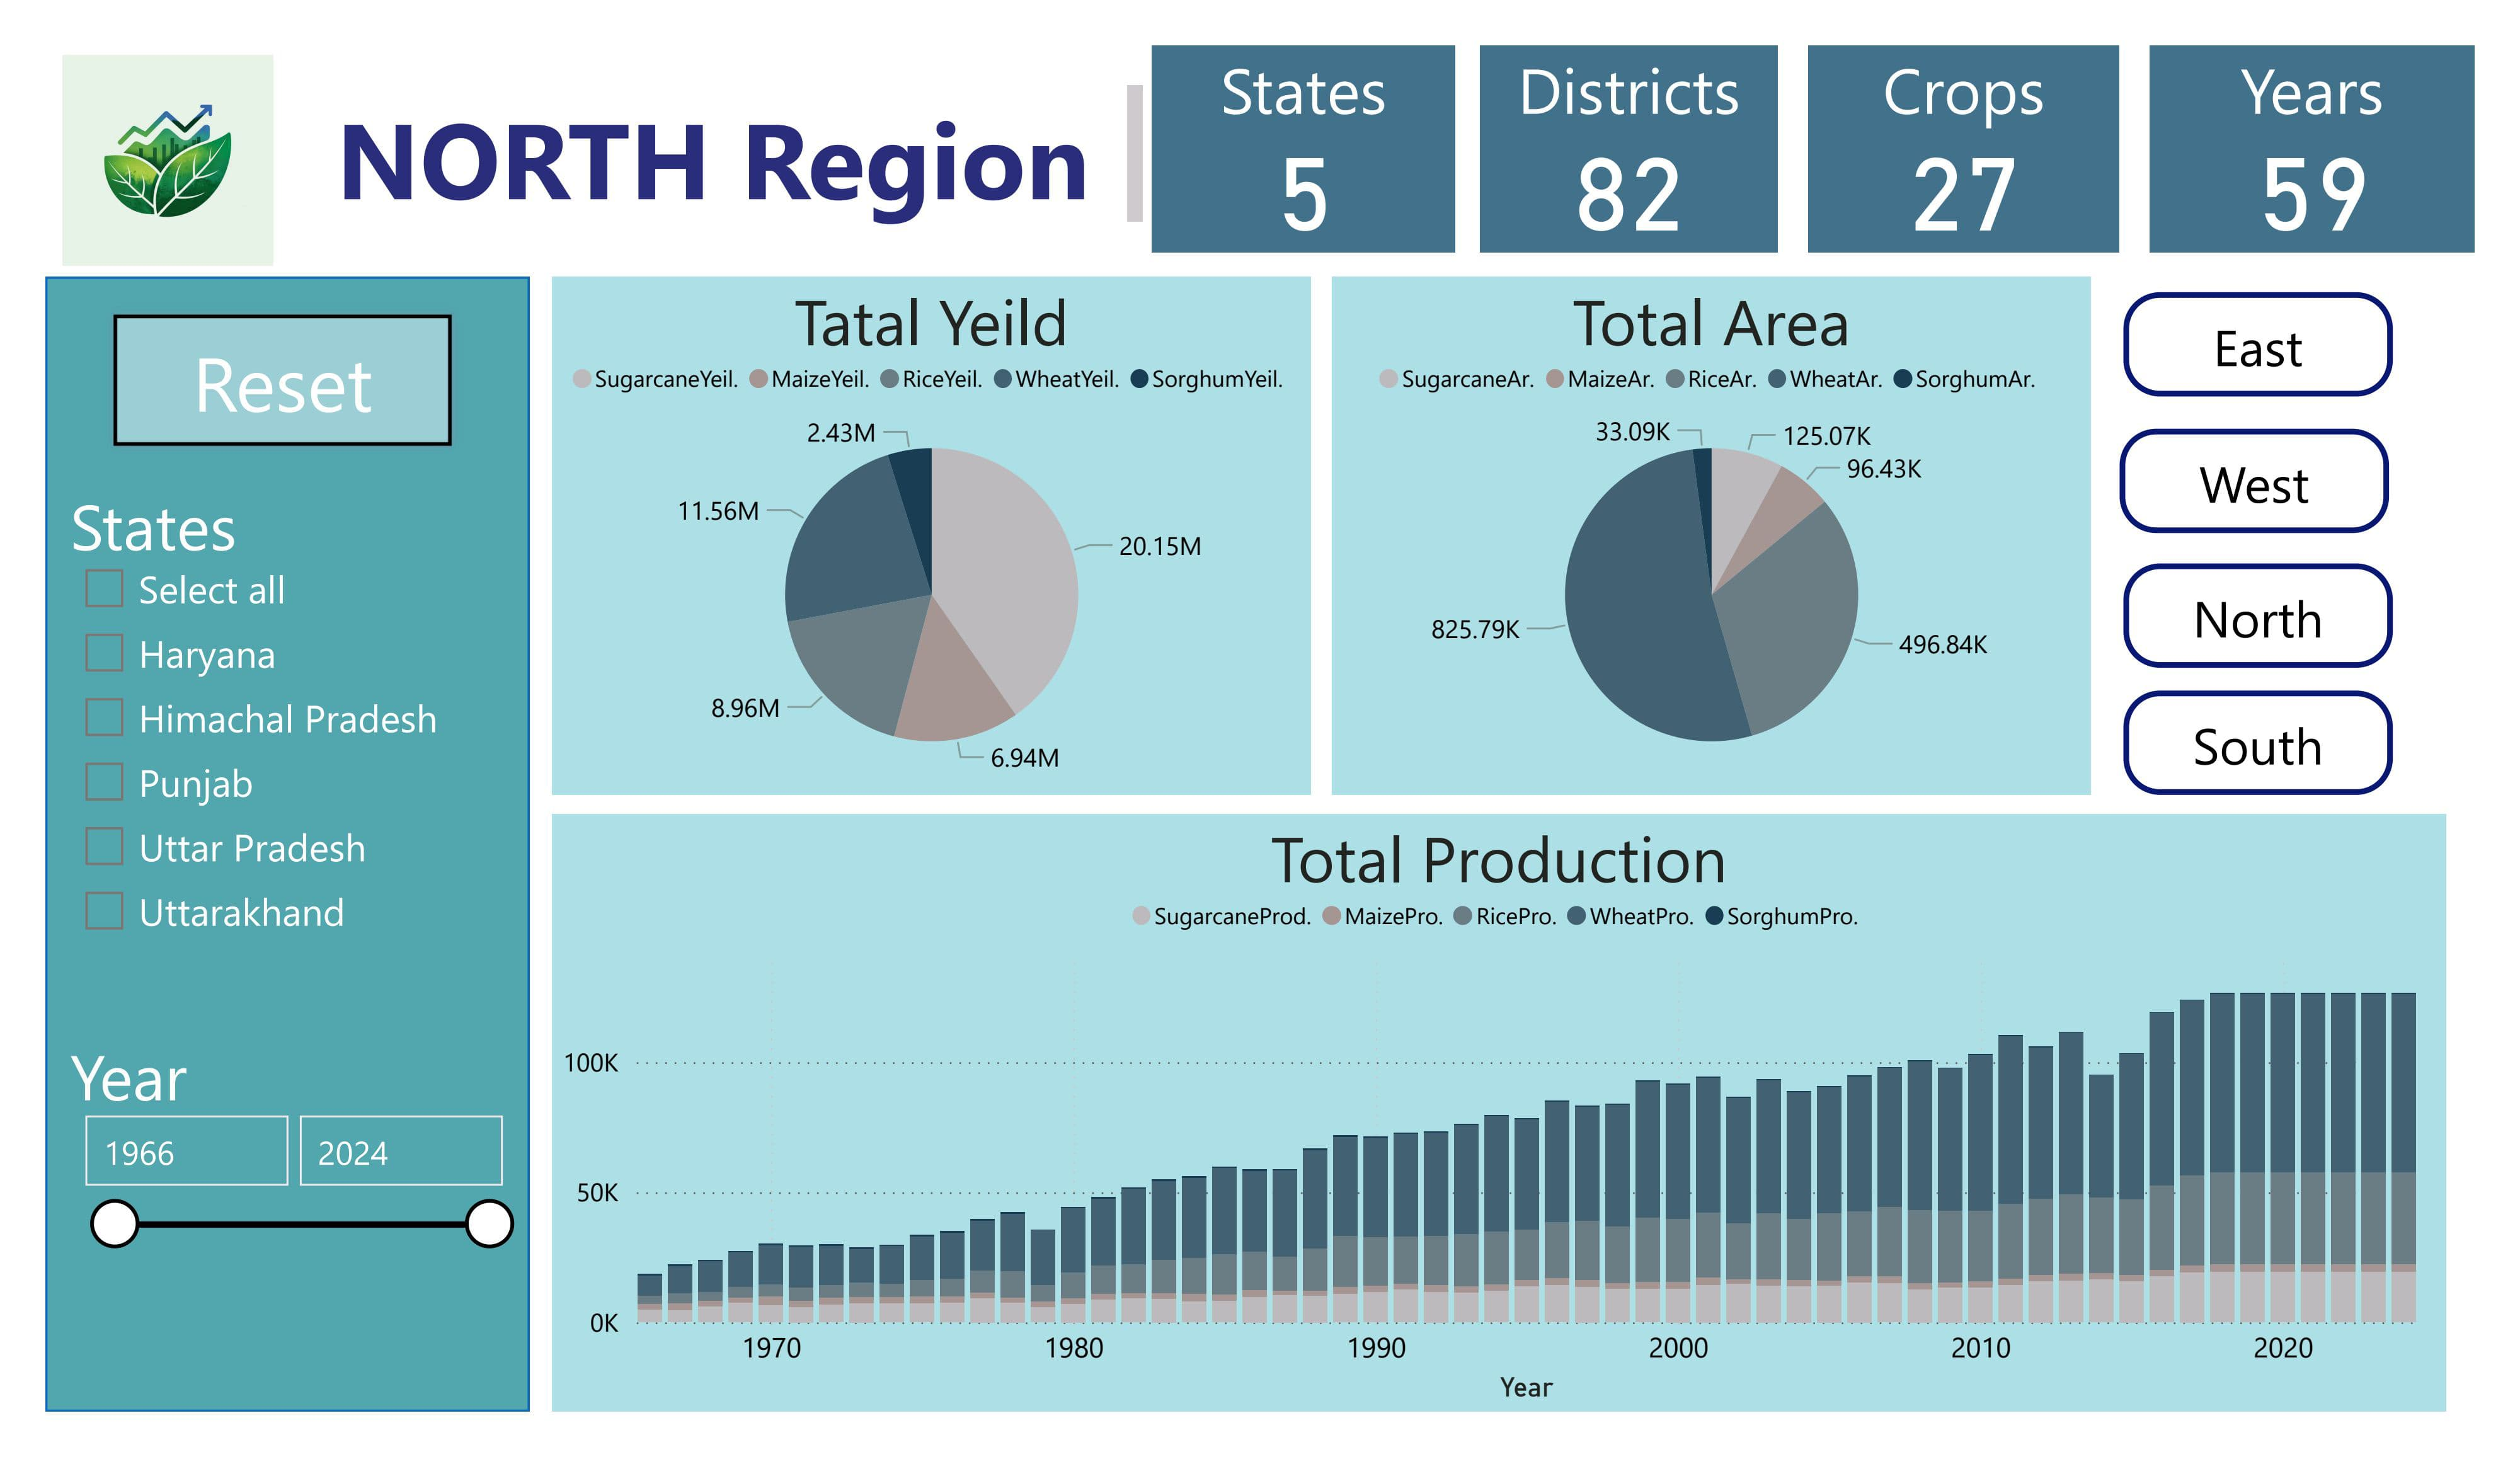

This screenshot's page, from the dashboard's own definition file:
{"tool":"powerbi","page":{"name":"NORTH","canvas":[1280,720],"ordinal":4},"visuals":[{"type":"shape","box":[0,121.7,255,598.3],"z":0},{"type":"textbox","box":[8.6,15.8,574.6,83.5],"z":1000},{"type":"card","title":"States","fields":{"Values":["Count(NORTH.State Name)"]},"box":[583.2,0,159.8,109.4],"z":2000},{"type":"card","title":"Districts","fields":{"Values":["Count(NORTH.Dist Name)"]},"box":[756,0,157,109.4],"z":3000},{"type":"card","title":"Crops","fields":{"Values":["Avg(NORTH.Crops)"]},"box":[928.8,0,164.2,109.4],"z":4000},{"type":"card","title":"Years","fields":{"Values":["Count(NORTH.Year)"]},"box":[1108.8,0,171.4,109.4],"z":5000},{"type":"slicer","title":"States","fields":{"Values":["NORTH.State Name"]},"box":[8.3,230,246.7,260],"z":6000},{"type":"slicer","title":"Year","fields":{"Values":["EAST.Year"]},"box":[8.3,520,246.7,143.3],"z":7000},{"type":"actionButton","box":[31.7,138.3,186.7,76.7],"z":8000},{"type":"pieChart","title":"Total Area","fields":{"Y":["NORTH.SugarcaneAr.","NORTH.MaizeAr.","NORTH.RiceAr.","NORTH.WheatAr.","NORTH.SorghumAr."]},"box":[678.3,121.7,400,273.3],"z":9000},{"type":"pieChart","title":"Tatal Yeild","fields":{"Y":["NORTH.SugarcaneYeil.","NORTH.MaizeYeil.","NORTH.RiceYeil.","NORTH.WheatYeil.","NORTH.SorghumYeil."]},"box":[266.7,121.7,400,273.3],"z":10000},{"type":"lineStackedColumnComboChart","title":"Total Production","fields":{"Y":["NORTH.SugarcaneProd.","NORTH.MaizePro.","NORTH.RicePro.","NORTH.WheatPro.","NORTH.SorghumPro."],"Category":["NORTH.Year"]},"box":[266.7,405,998.3,315],"z":11000},{"type":"actionButton","title":"West","box":[1093.3,201.7,141.7,55],"z":12000},{"type":"actionButton","box":[1095,273.3,141.7,55],"z":13000},{"type":"actionButton","box":[1095,340,141.7,55],"z":14000},{"type":"actionButton","box":[1095,130,141.7,55],"z":15000},{"type":"image","box":[0,0,128.2,121],"z":15001}]}

Visuals, with their boxes in screenshot pixels (x1, y1, x2, y2), scaled from the page's 1280x720 canvas onto the 2520x1457 screenshot:
shape: 0/246/502/1456
textbox: 17/32/1148/201
"States" card: 1148/0/1463/221
"Districts" card: 1488/0/1797/221
"Crops" card: 1828/0/2152/221
"Years" card: 2183/0/2519/221
"States" slicer: 16/466/502/991
"Year" slicer: 16/1052/502/1342
actionButton: 62/280/430/435
"Total Area" pieChart: 1336/246/2123/799
"Tatal Yeild" pieChart: 525/246/1312/799
"Total Production" lineStackedColumnComboChart: 525/820/2490/1456
"West" actionButton: 2153/408/2431/520
actionButton: 2156/553/2435/665
actionButton: 2156/688/2435/799
actionButton: 2156/263/2435/374
image: 0/0/253/245
